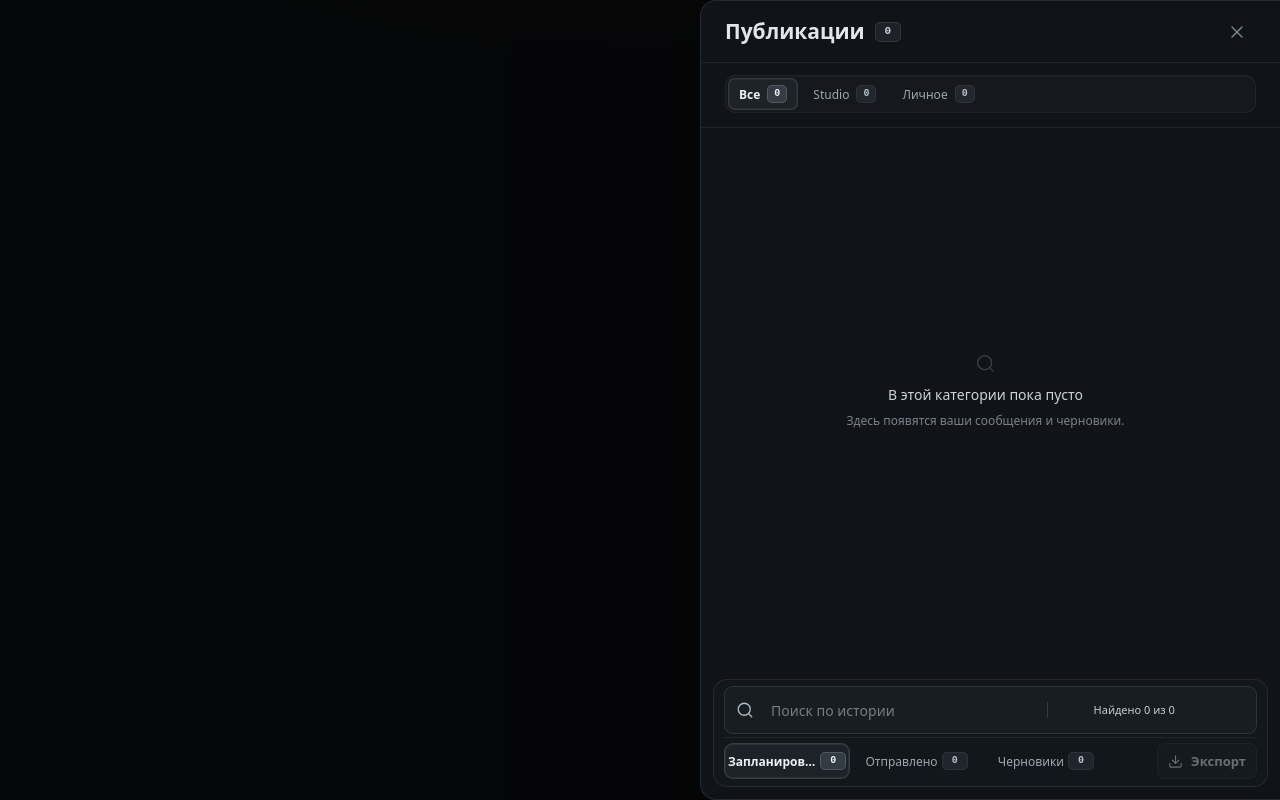
it: HistoryDrawer search › does not import unrelated Telegram Saved Messages into Posts
Click the button "Личное 0" at (939, 94), box top-left (891, 78), bottom-right (986, 110)
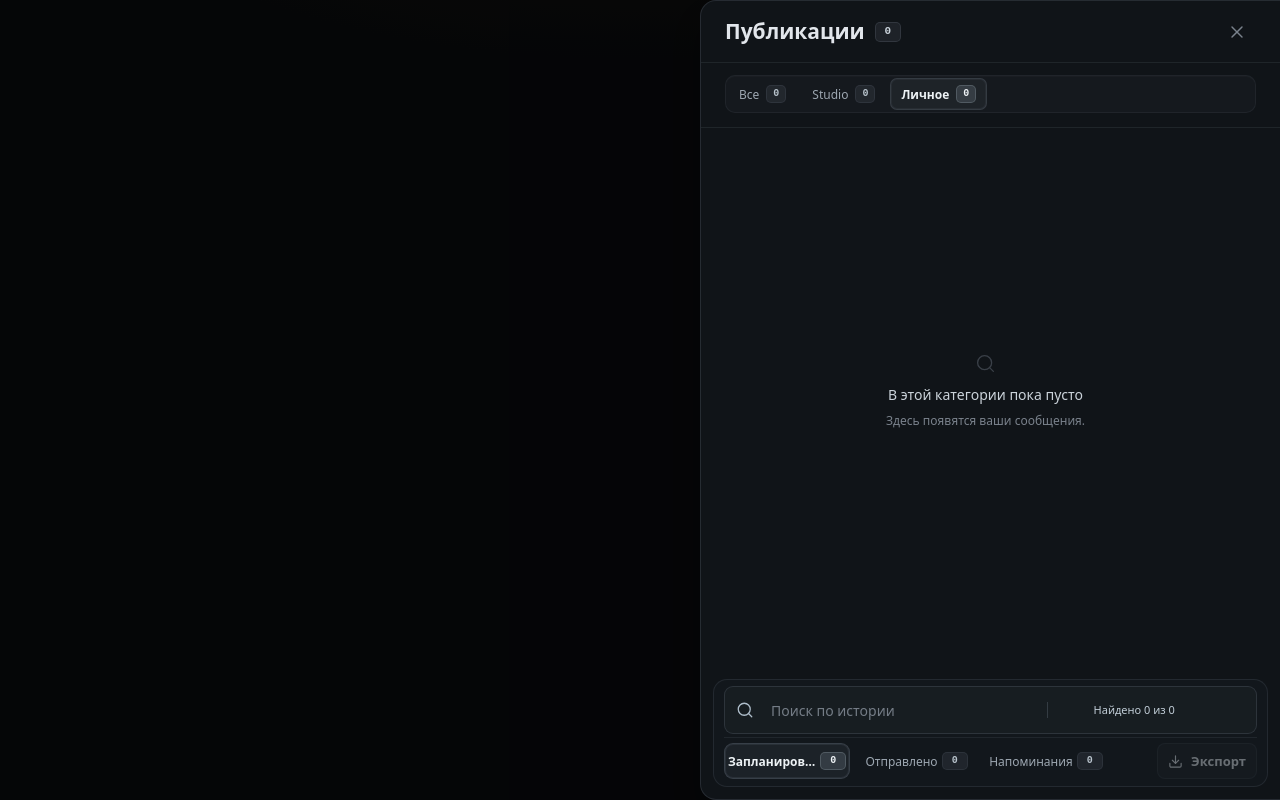
Click the tab "Напоминания 0" at (1046, 761), box top-left (983, 743), bottom-right (1109, 779)
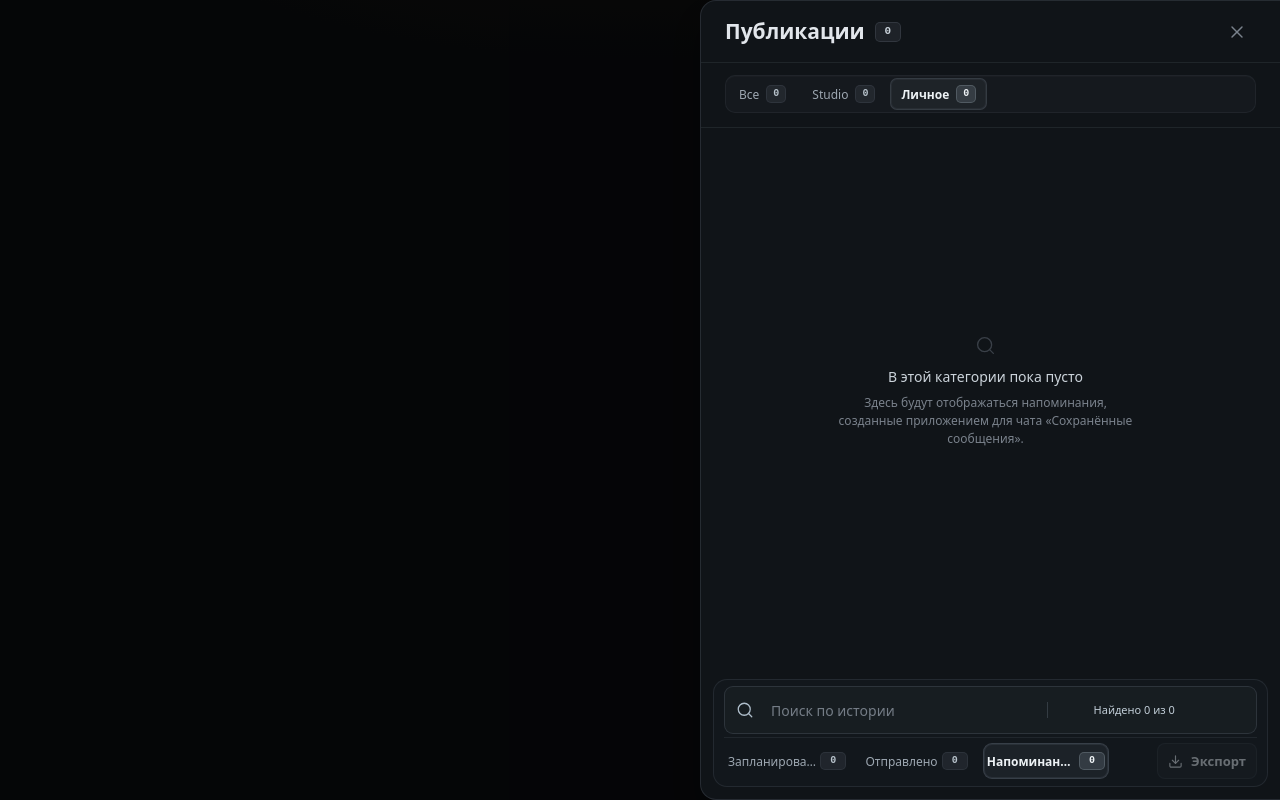
Expected: the text "Здесь будут отображаться напоминания, созданные приложением для чата «Сохранённые сообщения»." is shown, top-left (839, 394), bottom-right (1132, 447)
